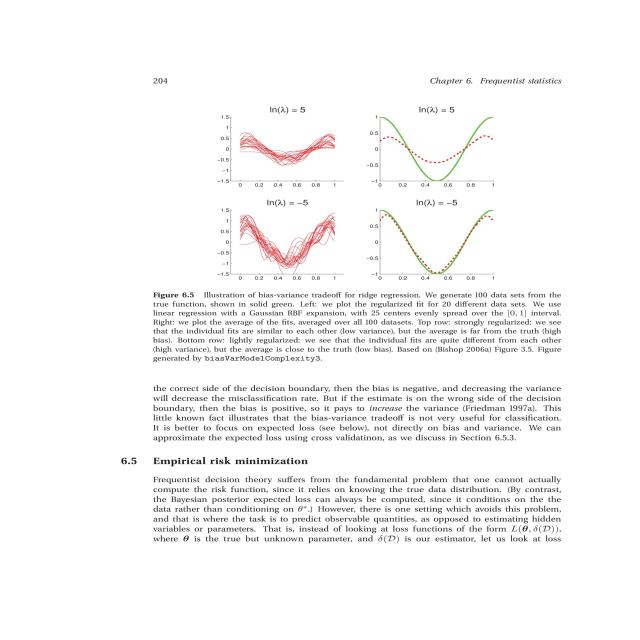diagram: (111, 94, 584, 363)
